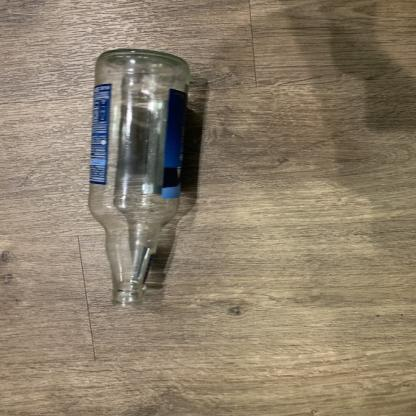trash: (85, 44, 194, 310)
